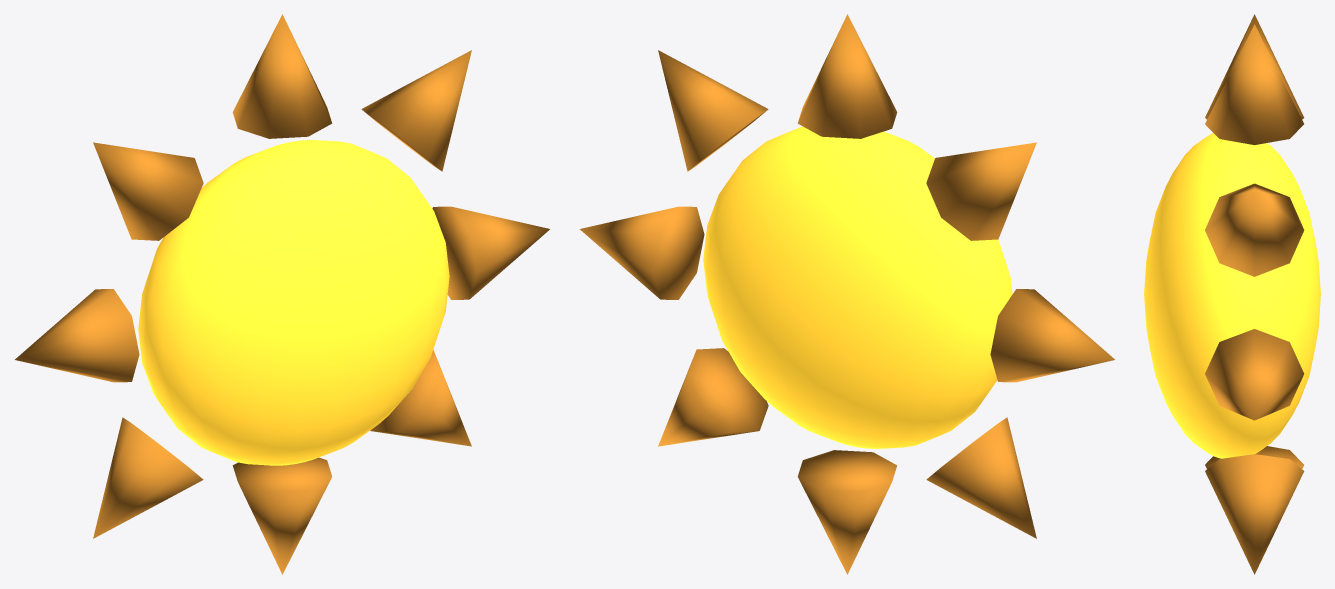
Rendered from icon_sun.glb.
3 views of the same model, side by side, from view 1: azimuth 30°, elevation 25°; view 2: azimuth 150°, elevation 25°; view 3: azimuth 270°, elevation 25° (orthographic). The views are drawn at different scales.
Visible parts, largest first — view 1: icon_sun; view 2: icon_sun; view 3: icon_sun.
Boxes of the visible parts, <box> form: icon_sun: <box>15,14,549,574</box>; icon_sun: <box>580,14,1114,574</box>; icon_sun: <box>1144,14,1320,574</box>.
Size of the model in its own units: 0.54 by 0.54 by 0.16.
